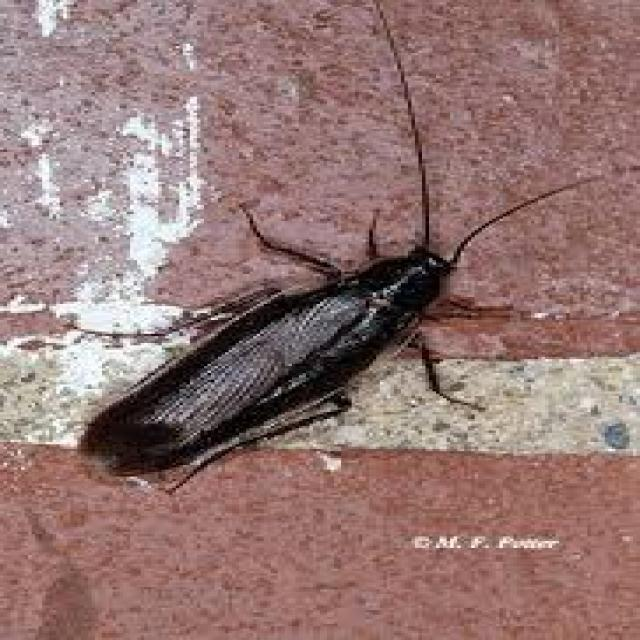Cockroach: (48, 0, 639, 506)
